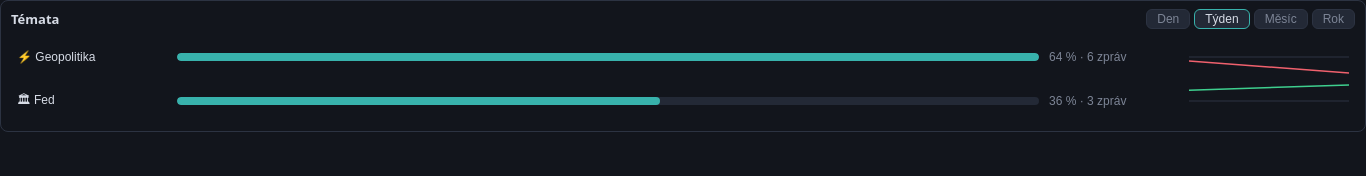
rozklik tématu načte zprávy, které ho tvoří (fáze 3)
The width and height of the screenshot is (1366, 176).
Click the button with test id "topic-row-GEOPOLITICS". click: {"x": 683, "y": 57}
box: [11,35,1355,79]
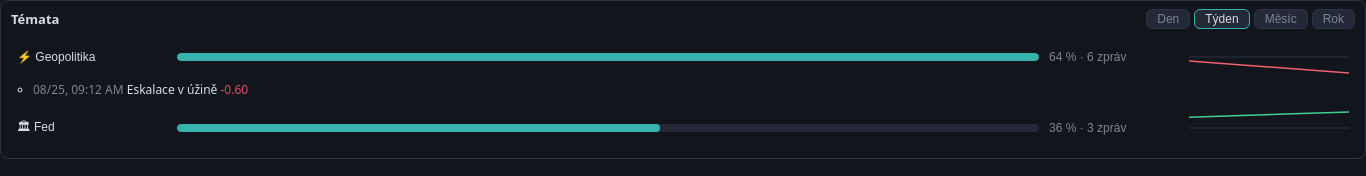
Check: the list with test id "topic-events-GEOPOLITICS" shows "Eskalace v úžině", box [127,81,217,98]
Check: the list with test id "topic-events-GEOPOLITICS" shows "-0.60", box [220,81,248,98]
